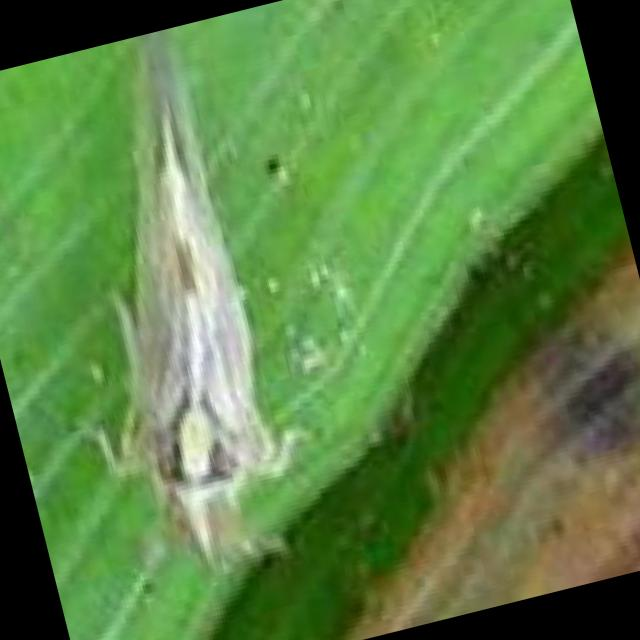brown-planthopper: (21, 18, 337, 581)
